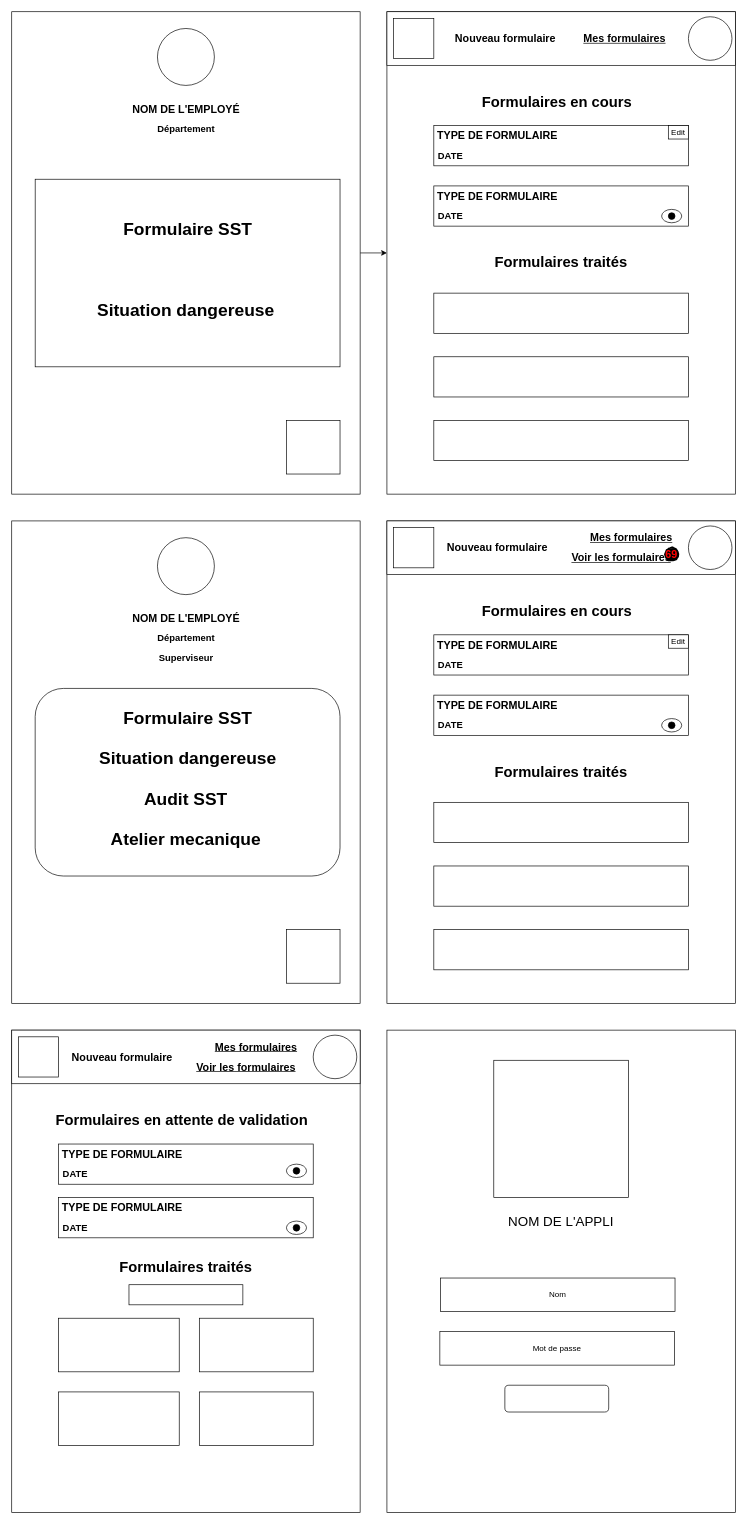
Image size: 747x1524. Some labels were removed from this diagram. The shapes that lost their labels are listed below. From the top down, each one's centre as x and y in pixels, then its label:
[560,1129]: Logo de la ville
[185,1294]: Filter par employé
[556,1398]: Connexion
